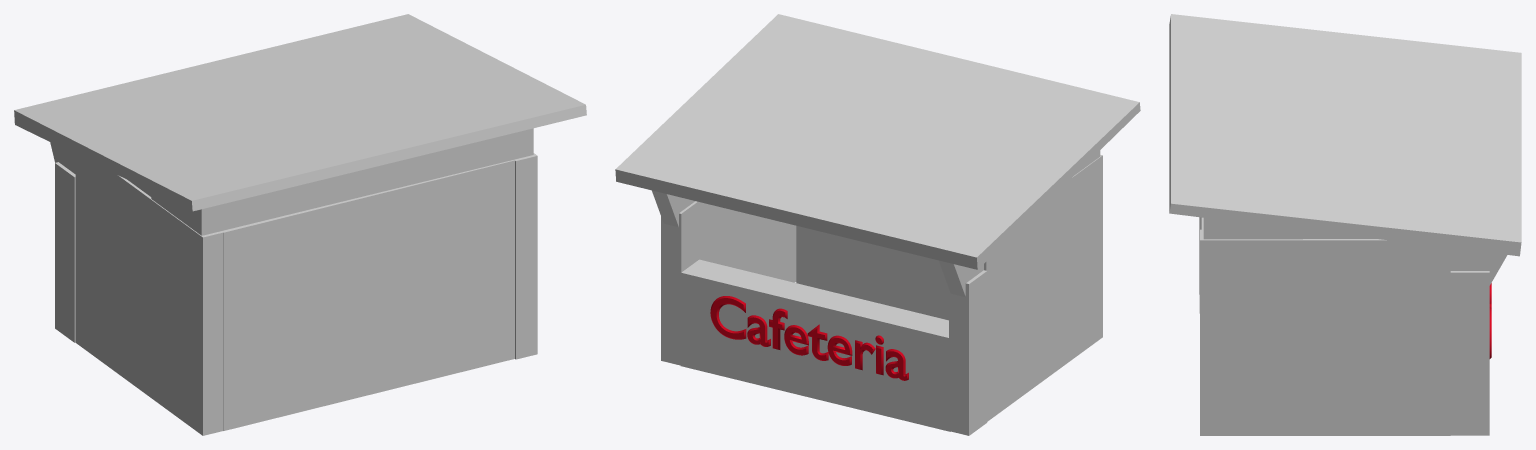
Rendered from Cafet.fbx.
The picture shows the model from 3 angles, left to right: view 1: azimuth 30°, elevation 25°; view 2: azimuth 150°, elevation 25°; view 3: azimuth 270°, elevation 25°; orthographic projection. The views are drawn at different scales.
Visible parts, largest first — view 1: Mesh 62, Mesh 57, Clone Mesh 57, Clone Mesh 63, Clone Mesh 60; view 2: Mesh 62, Clone Mesh 60, Clone Mesh 57, Clone Mesh 73, Text, Mesh 73, Clone Mesh 63, Clone Clone Mesh 63; view 3: Mesh 62, Clone Mesh 57, Clone Mesh 60, Clone Mesh 63, Clone Mesh 76.
Part boxes in pixels (box(x1,y1,x2,y2)): Mesh 62: box(14, 14, 586, 211); Mesh 57: box(221, 159, 517, 430); Clone Mesh 57: box(75, 153, 537, 435); Clone Mesh 63: box(151, 128, 533, 235); Clone Mesh 60: box(55, 162, 75, 342); Mesh 62: box(615, 14, 1140, 269); Clone Mesh 60: box(661, 201, 987, 435); Clone Mesh 57: box(699, 155, 1102, 421); Clone Mesh 73: box(796, 225, 885, 304); Text: box(710, 296, 908, 380); Mesh 73: box(886, 247, 948, 320); Clone Mesh 63: box(652, 150, 1100, 227); Clone Clone Mesh 63: box(938, 260, 983, 296); Mesh 62: box(1169, 14, 1521, 256); Clone Mesh 57: box(1200, 229, 1450, 435); Clone Mesh 60: box(1450, 271, 1489, 435); Clone Mesh 63: box(1203, 218, 1507, 285); Clone Mesh 76: box(1303, 230, 1375, 238).
Bounding box in the file's own units: 1796 × 1109 × 1409.
